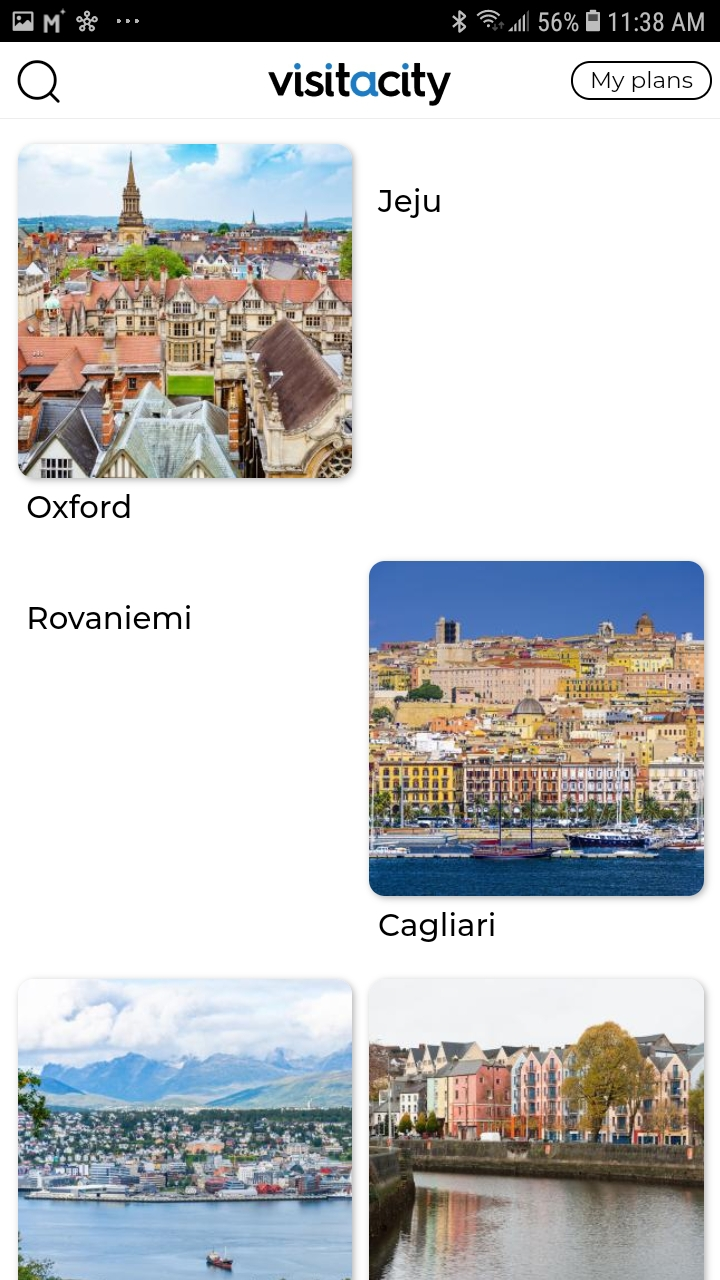Icon: (18, 60, 62, 104)
Image: (369, 561, 704, 896), (19, 145, 353, 479), (369, 979, 704, 1280), (19, 979, 353, 1280), (268, 63, 451, 107)
Text: (29, 605, 191, 630), (379, 911, 495, 943), (28, 494, 131, 519), (378, 188, 441, 219)
TextButton: (571, 61, 713, 101)
UpperTaskBar: (1, 1, 720, 43)
